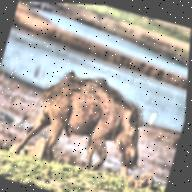boar: (8, 51, 180, 189)
